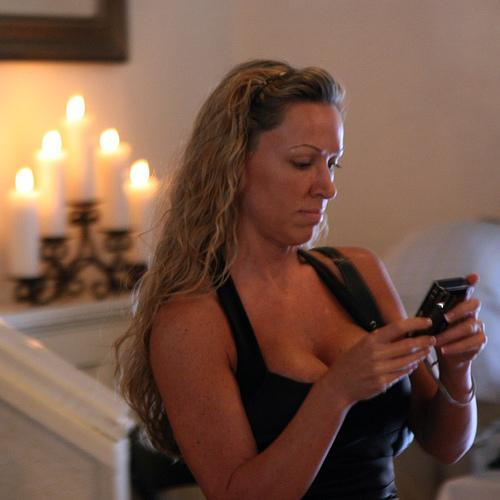person: (121, 60, 488, 498)
